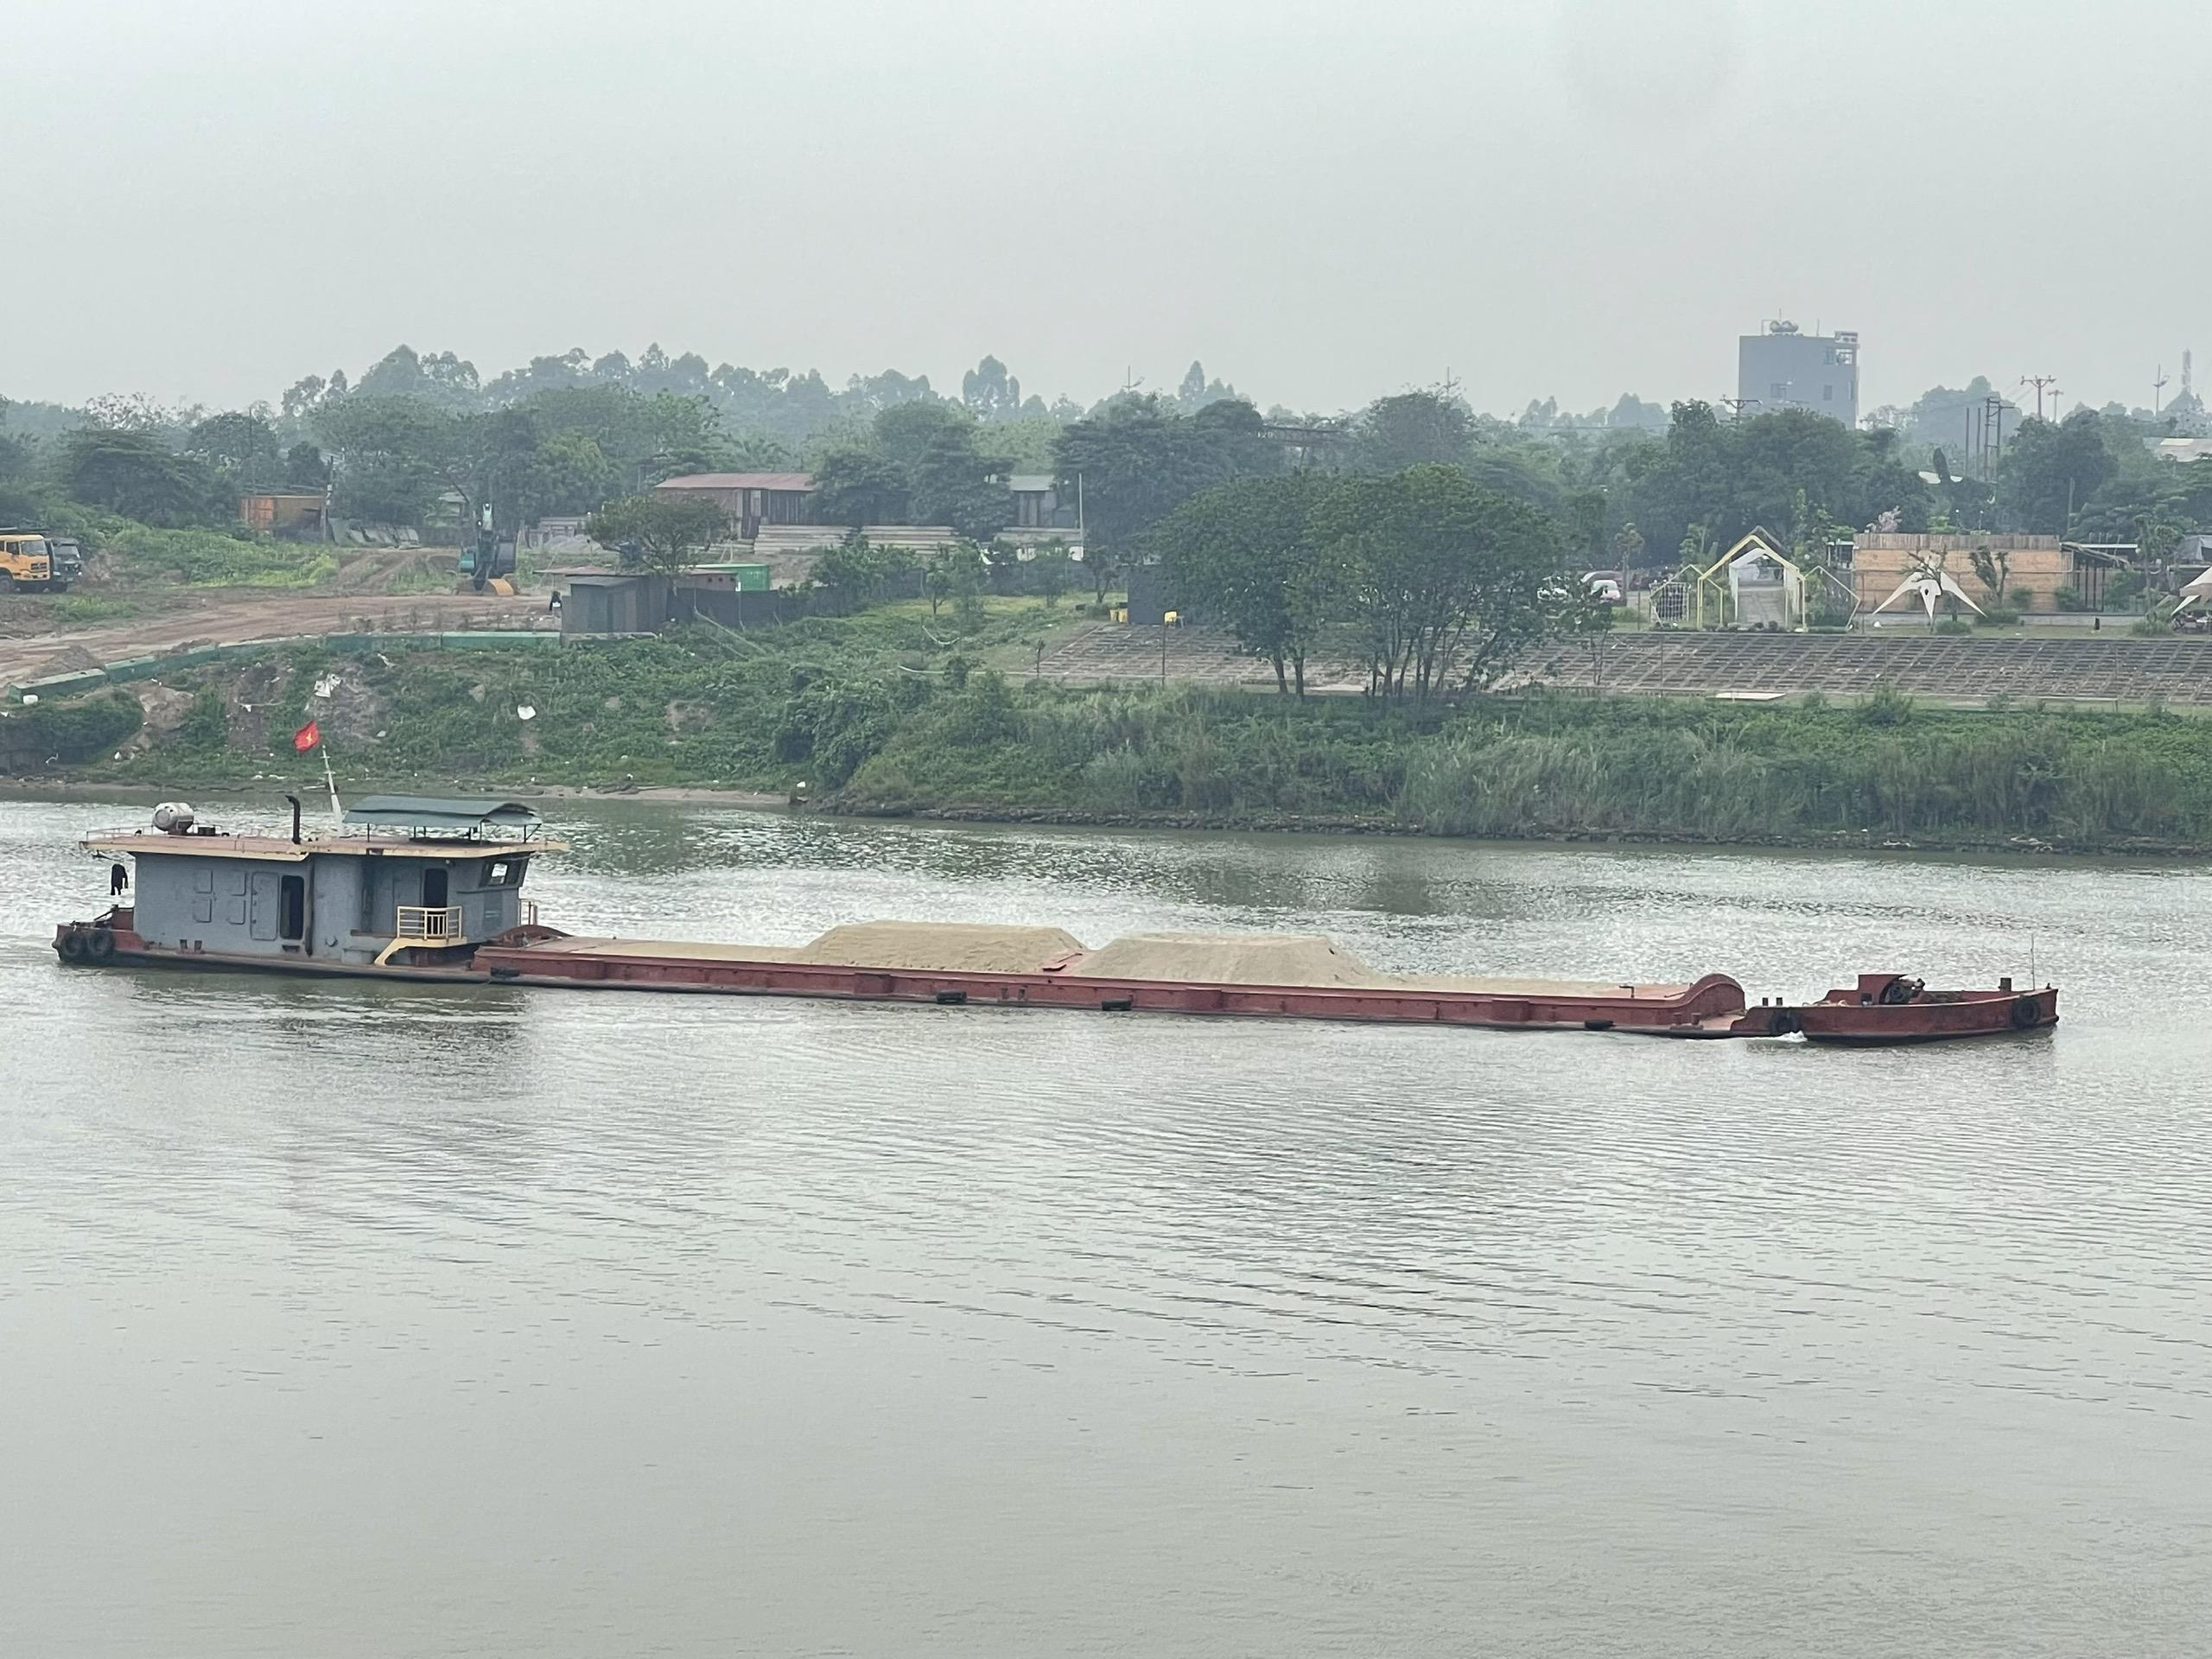Ship: (37, 812, 2069, 1051)
